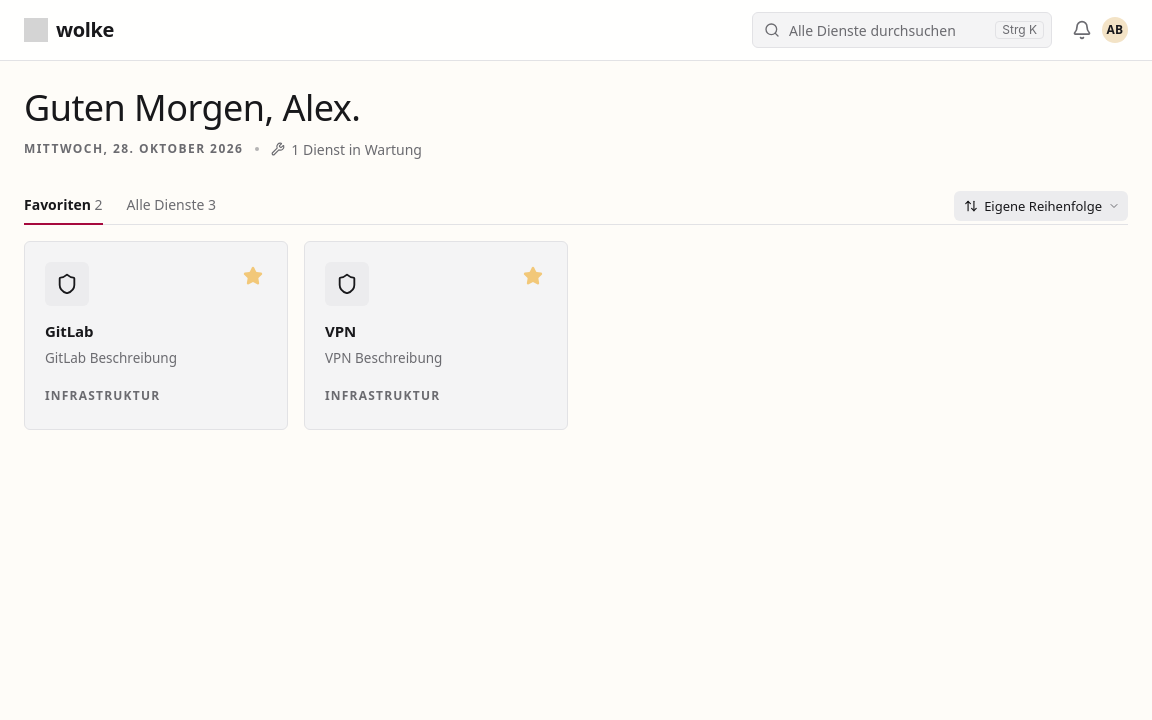
Test: a search and the Anordnen edit mode cannot coexist (issue #198) › leaves the edit mode behind when the view navigates away from Favoriten
Check: the navigation bar named "Hauptnavigation" is shown, box [24,188,1128,225]
Click the button with aria-label "Reihenfolge:". click: (1041, 206)
box: [954,191,1128,221]
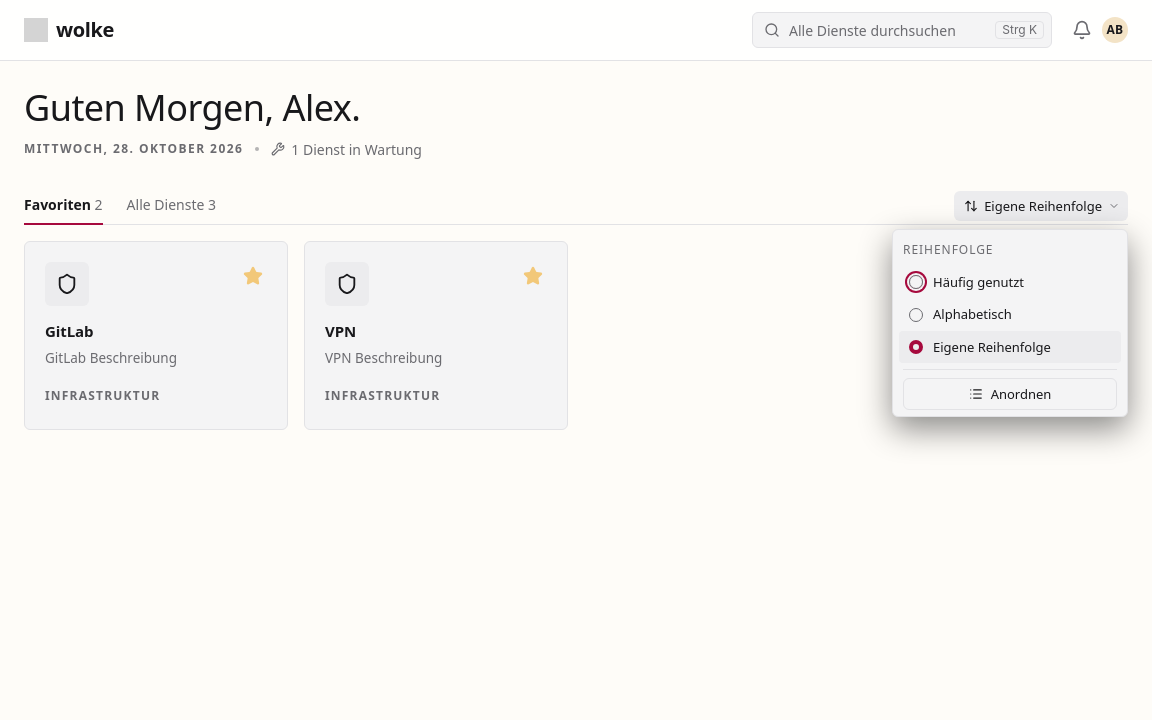
Click the button "Anordnen". click: (1010, 394)
box: [903,378,1117,410]
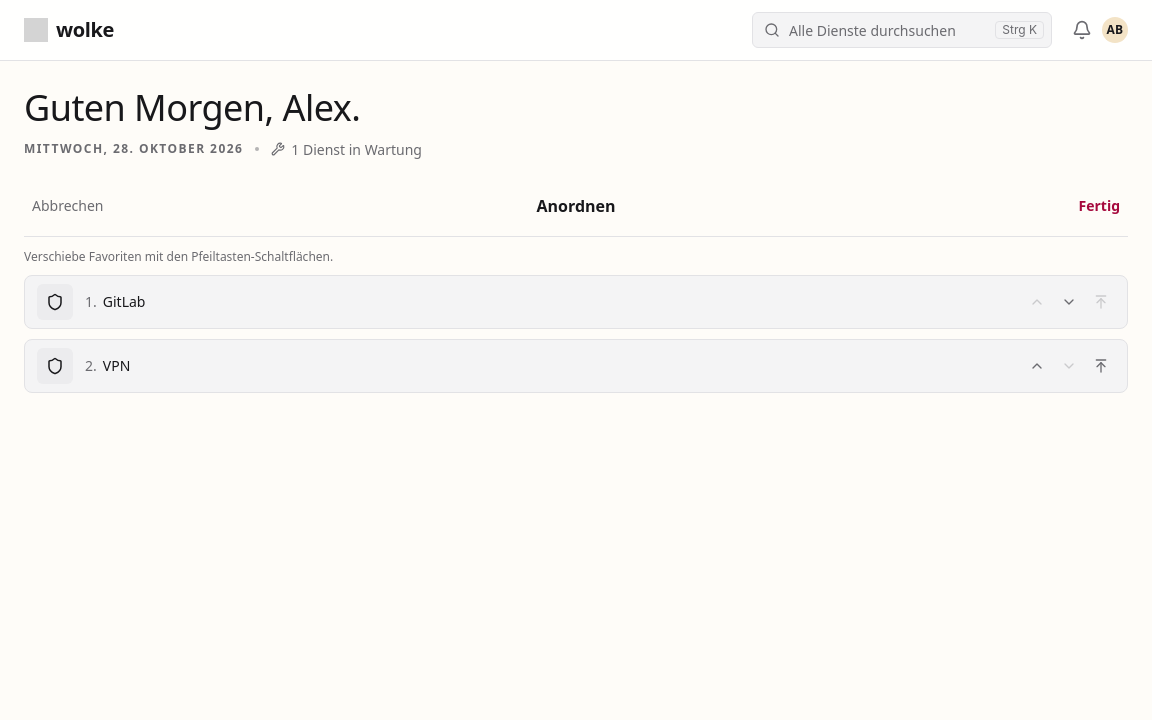
Check: the button "Fertig" is shown, box [1070,188,1128,224]
Click the button "1 Dienst in Wartung". click: (347, 149)
box: [271,139,422,160]
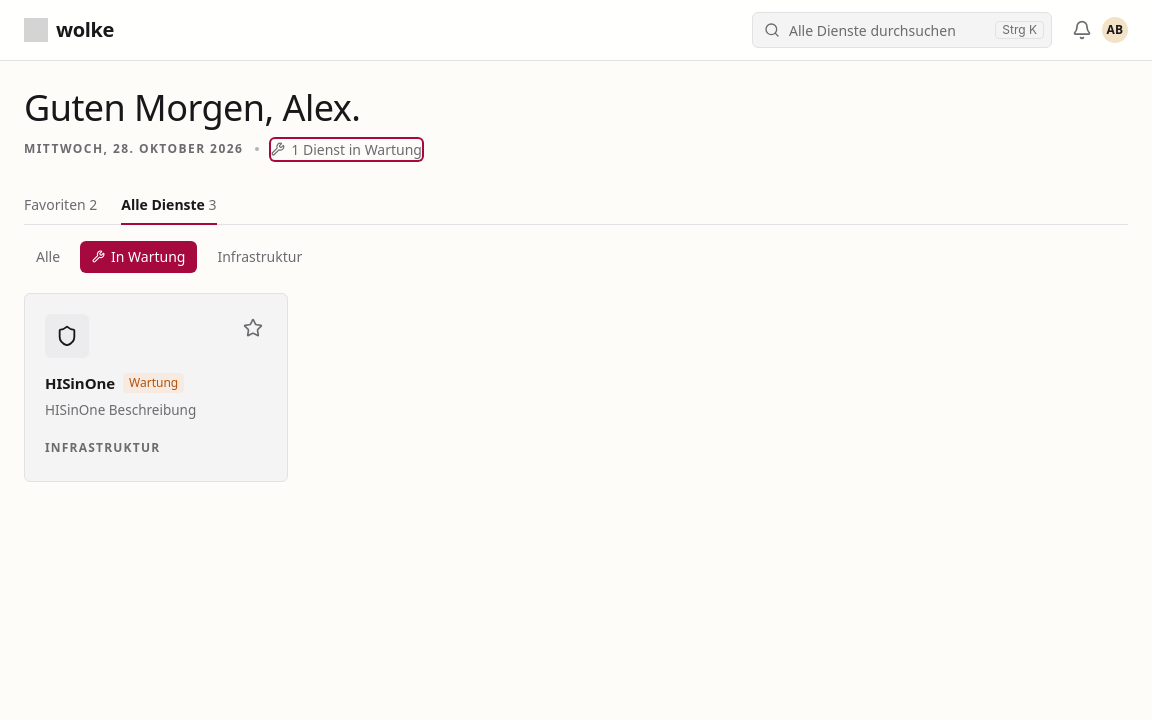
Check: the navigation bar named "Hauptnavigation" is shown, box [24,188,1128,225]
Check: the button "Fertig" is gone
